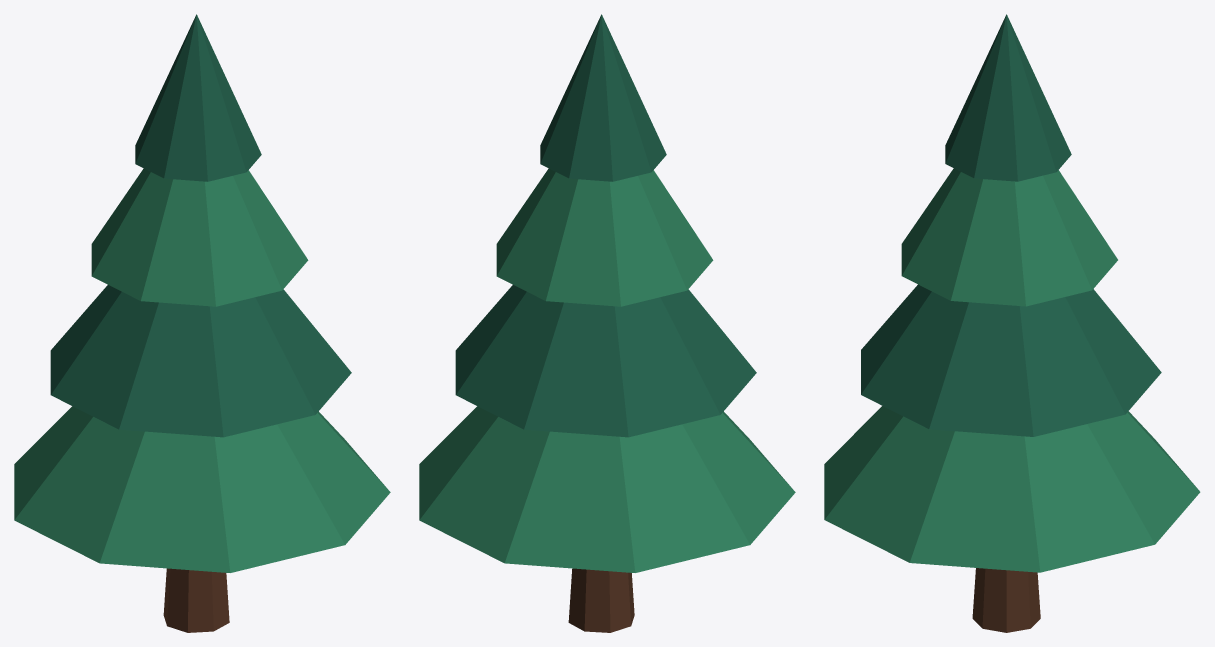
File: tree_pine.glb
3 renders of one model, left to right at view 1: azimuth 30°, elevation 25°; view 2: azimuth 150°, elevation 25°; view 3: azimuth 270°, elevation 25°, orthographic.
Visible parts, largest first — view 1: tree_pine; view 2: tree_pine; view 3: tree_pine.
Boxes of the visible parts, <box> form: tree_pine: <box>14,14,390,632</box>; tree_pine: <box>419,14,795,632</box>; tree_pine: <box>824,14,1200,632</box>.
Size of the model in its own units: 2.46 by 4.3 by 2.42.
